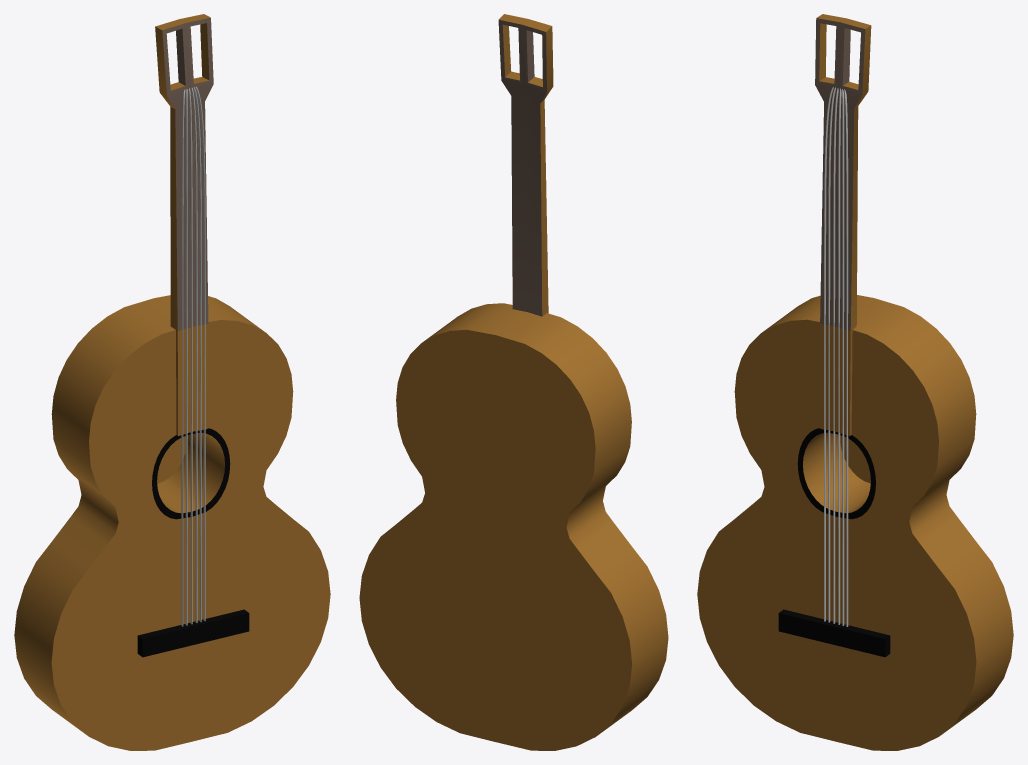
Rendered from guitarra_criolla.fbx.
3 renders of one model, left to right at view 1: azimuth 30°, elevation 25°; view 2: azimuth 150°, elevation 25°; view 3: azimuth 330°, elevation 25°, orthographic. The views are drawn at different scales.
Parts seen in each view (by area): view 1: Circle.001; view 2: Circle.001; view 3: Circle.001.
Part boxes in pixels (<box>): Circle.001: <box>14,14,330,750</box>; Circle.001: <box>359,14,668,750</box>; Circle.001: <box>697,14,1013,750</box>.
Size of the model in its own units: 42.55 by 104 by 11.12.
